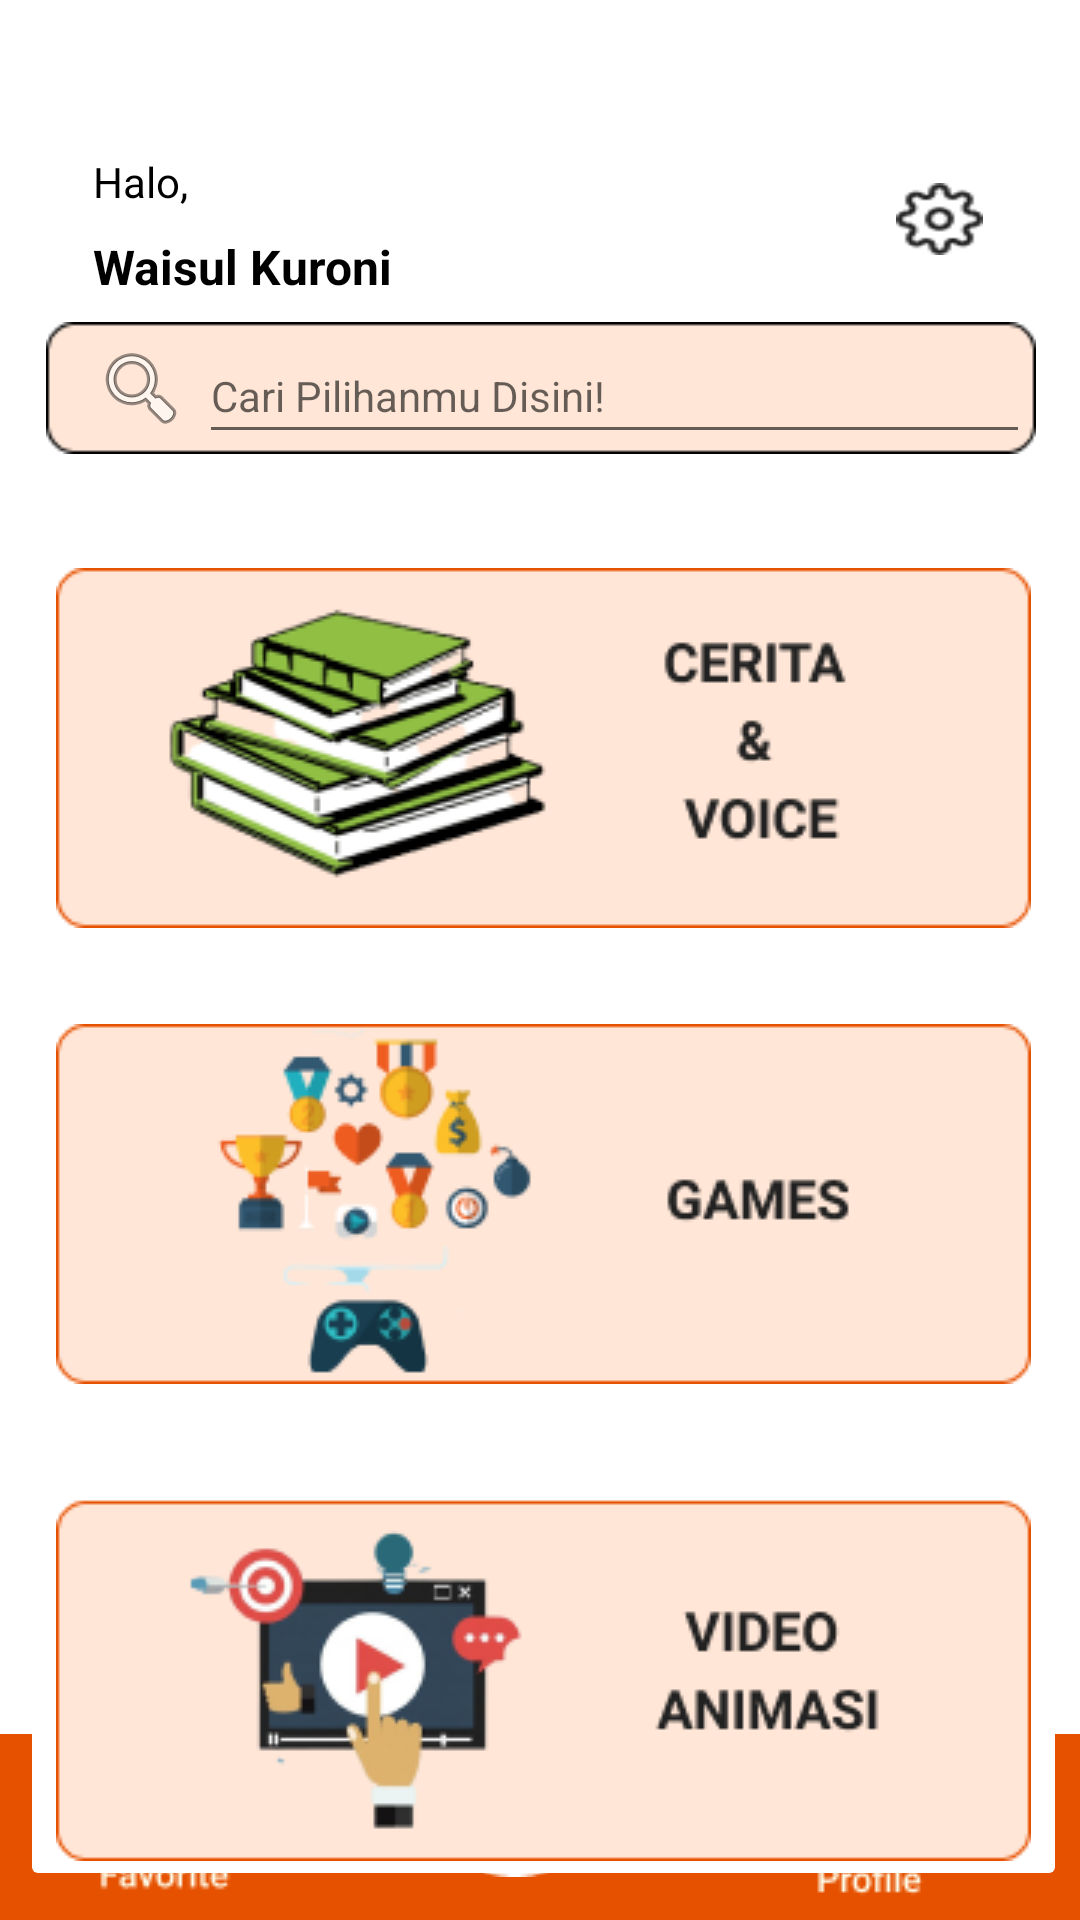

Where to tap for icons on this 1080w x 1920h app screen, as point (x, y):
search: point (141, 388)
settings: point (939, 219)
